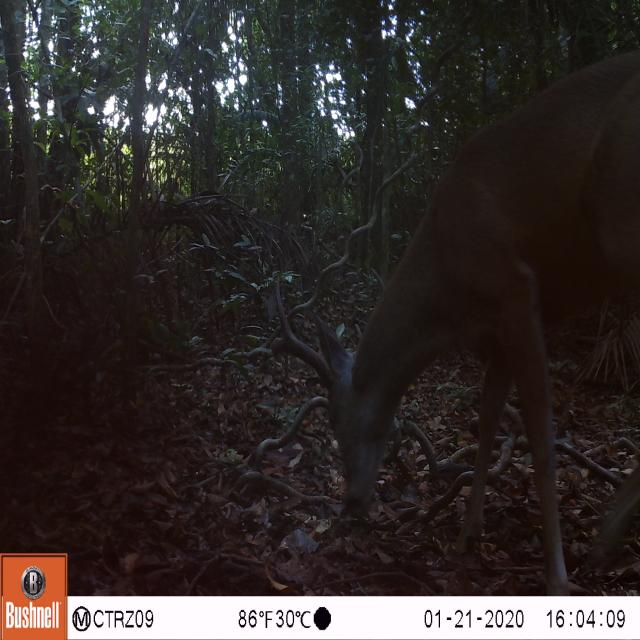White-tailed Deer: (242, 46, 640, 589)
